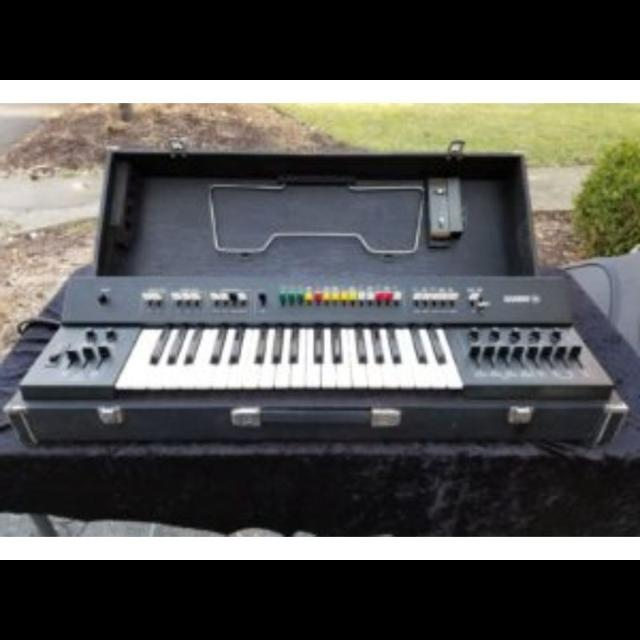Electronic-Keyboard: (22, 276, 614, 400)
